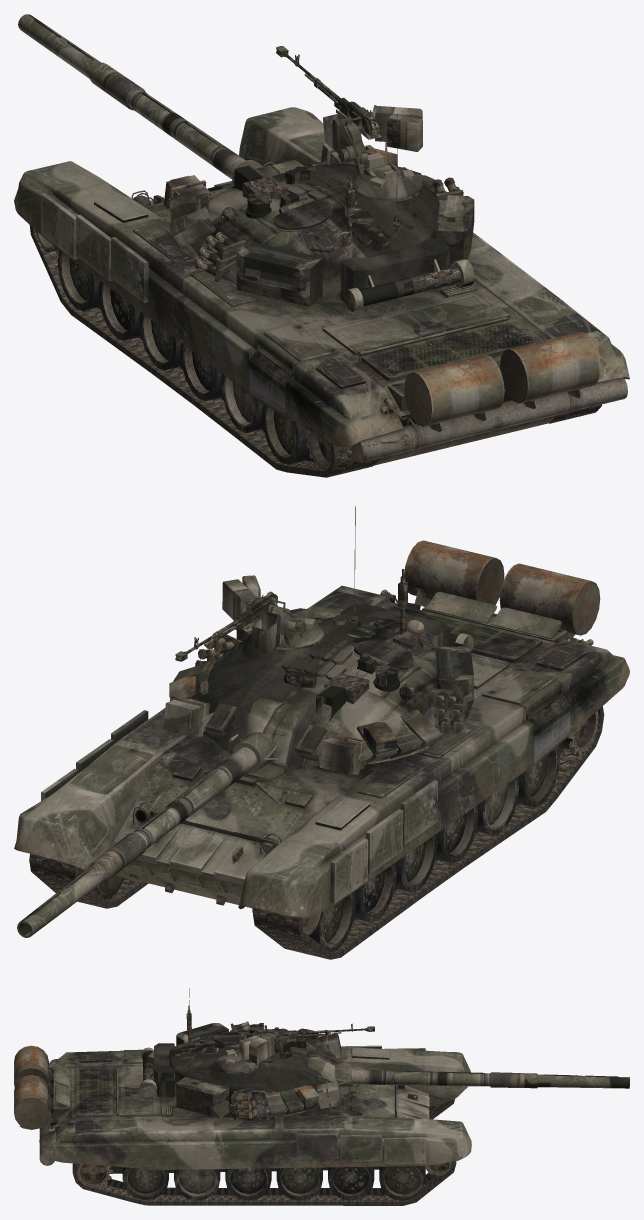
3 renders of one model, top to bottom at view 1: azimuth 30°, elevation 25°; view 2: azimuth 150°, elevation 25°; view 3: azimuth 270°, elevation 25°, orthographic. The views are drawn at different scales.
Parts seen in each view (by area): view 1: Main_Body_, Turret, Main_Body, gun; view 2: Main_Body_, Turret, Main_Body, gun; view 3: Main_Body_, Turret, Main_Body, gun.
Boxes of the visible parts, bbox=[...] form: Main_Body_: bbox=[14, 107, 629, 477]; Turret: bbox=[18, 14, 474, 311]; Main_Body: bbox=[131, 162, 555, 465]; gun: bbox=[276, 46, 381, 138]; Main_Body_: bbox=[14, 540, 629, 959]; Turret: bbox=[17, 506, 473, 937]; Main_Body: bbox=[109, 592, 567, 912]; gun: bbox=[175, 591, 277, 661]; Main_Body_: bbox=[14, 1045, 471, 1205]; Turret: bbox=[140, 988, 629, 1120]; Main_Body: bbox=[51, 1062, 429, 1173]; gun: bbox=[252, 1023, 374, 1043].
Size of the model in its own units: 3.27 by 3.12 by 9.46.
Materials: 2 (2 with a texture image).
